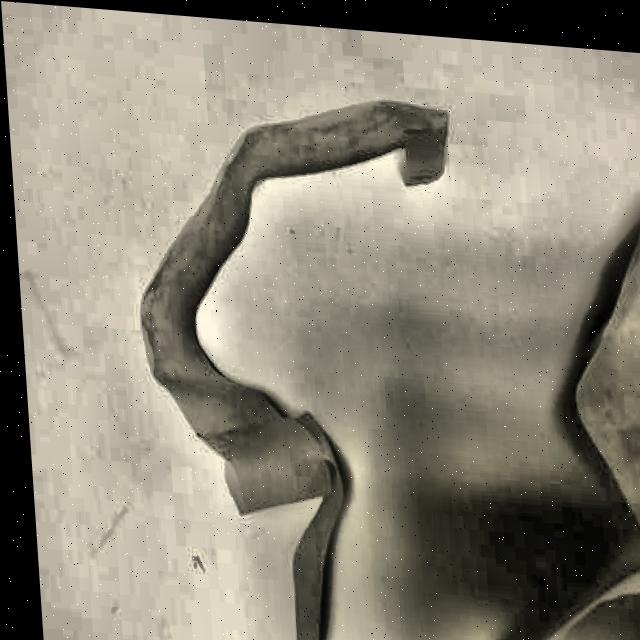paper: (121, 77, 640, 640)
